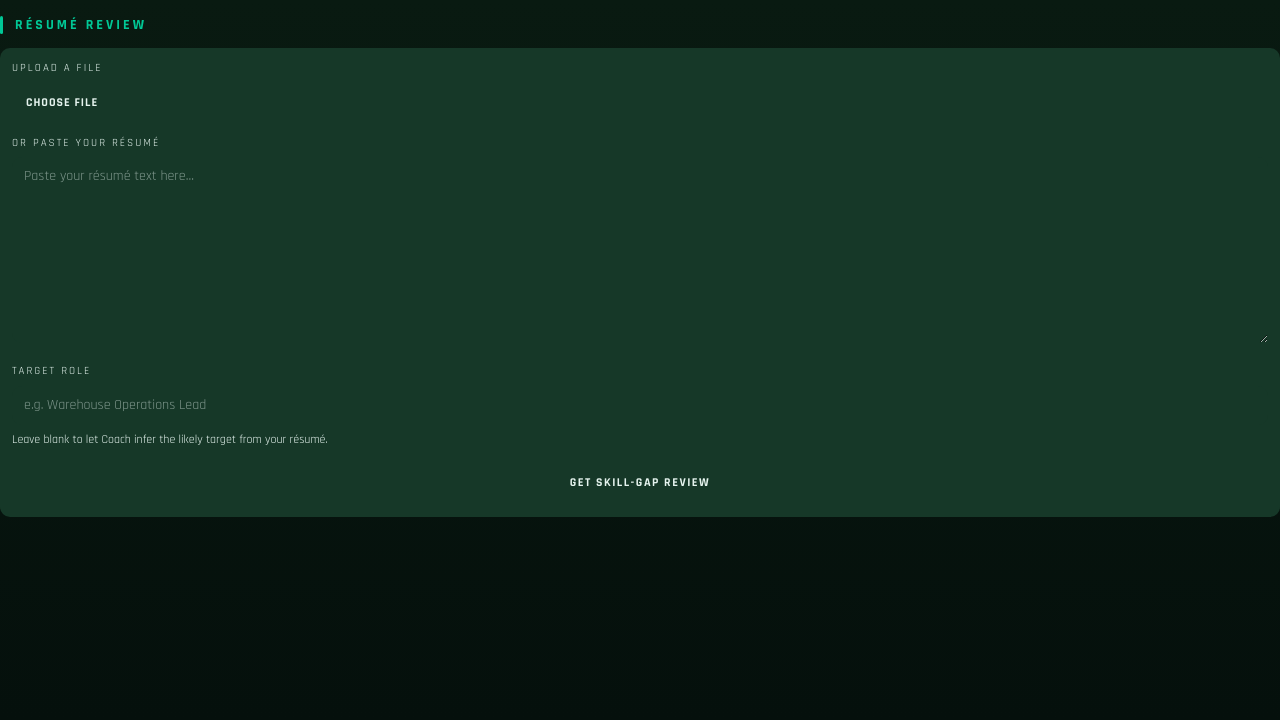
Test: ResumeReviewCard › streams the review, then saves the profile and a coach_chats row
In the text box with placeholder "Paste your résumé text here…": {"x": 640, "y": 250} [12, 157, 1268, 343], type "Warehouse lead, 5 years."
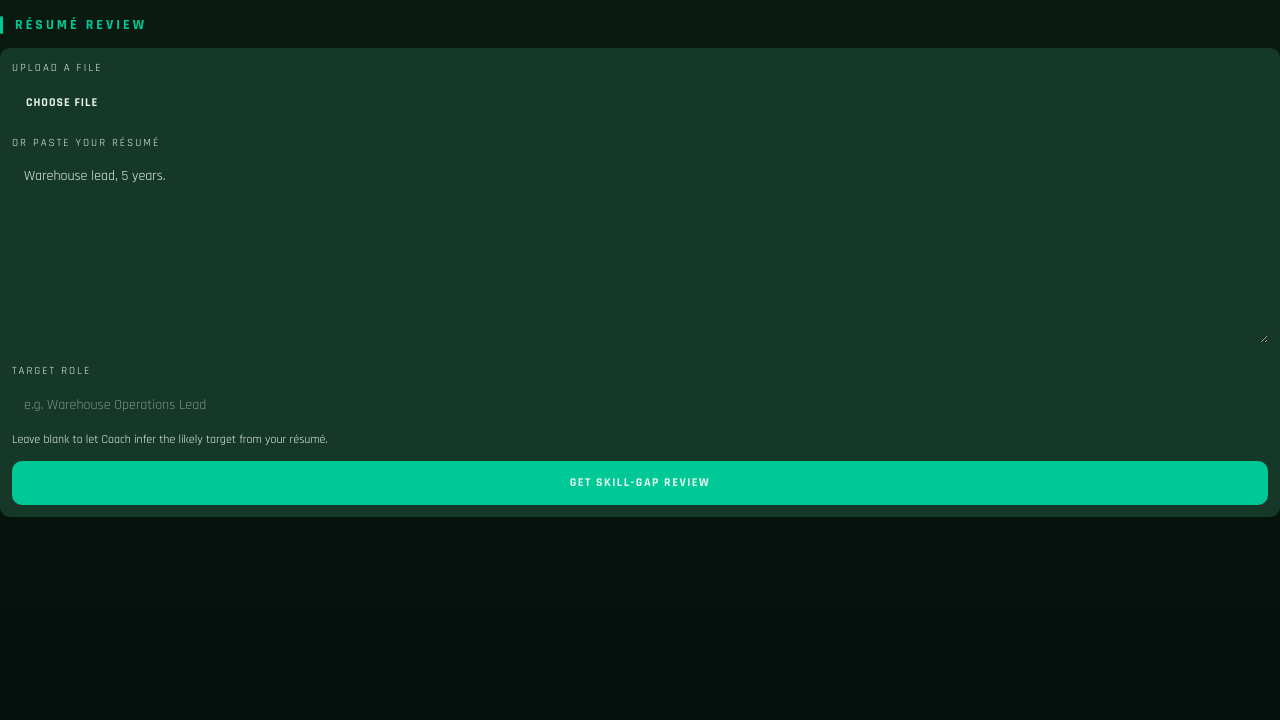
In the field with placeholder "e.g. Warehouse Operations Lead": {"x": 640, "y": 405} [12, 386, 1268, 424], type "Operations Manager"
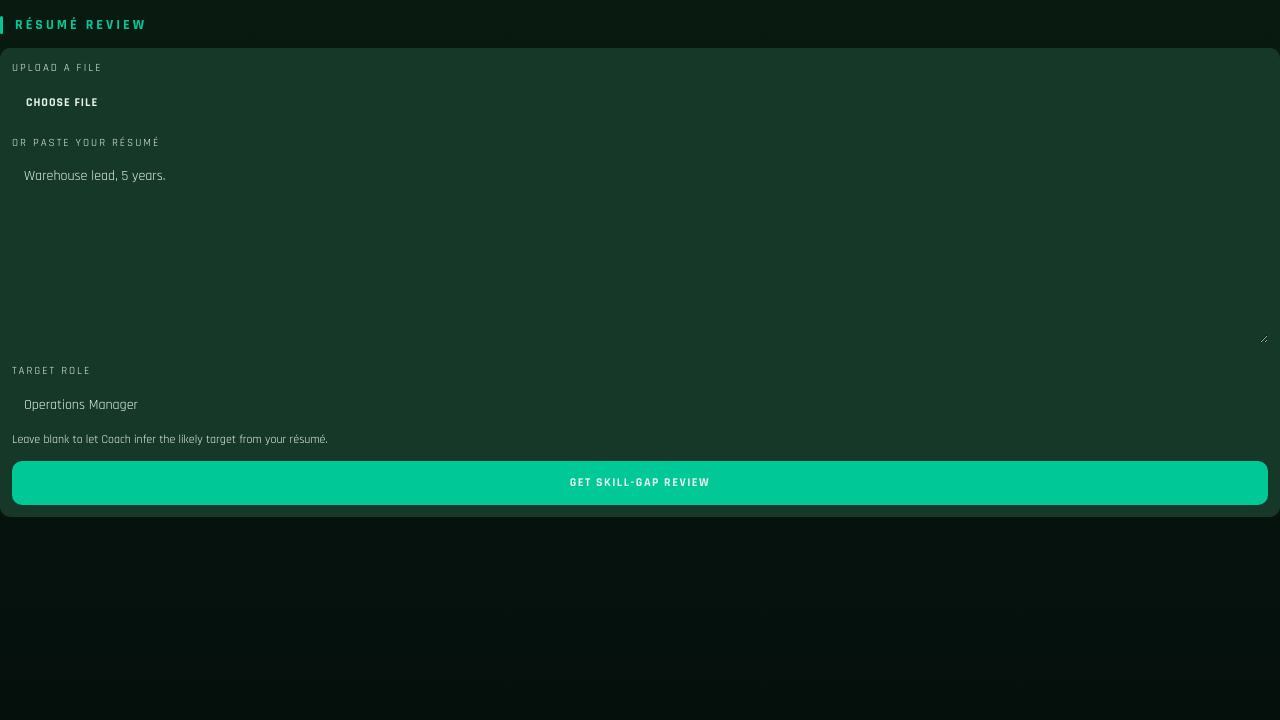
Click the button "Get Skill-Gap Review": {"x": 640, "y": 482} [12, 460, 1268, 504]
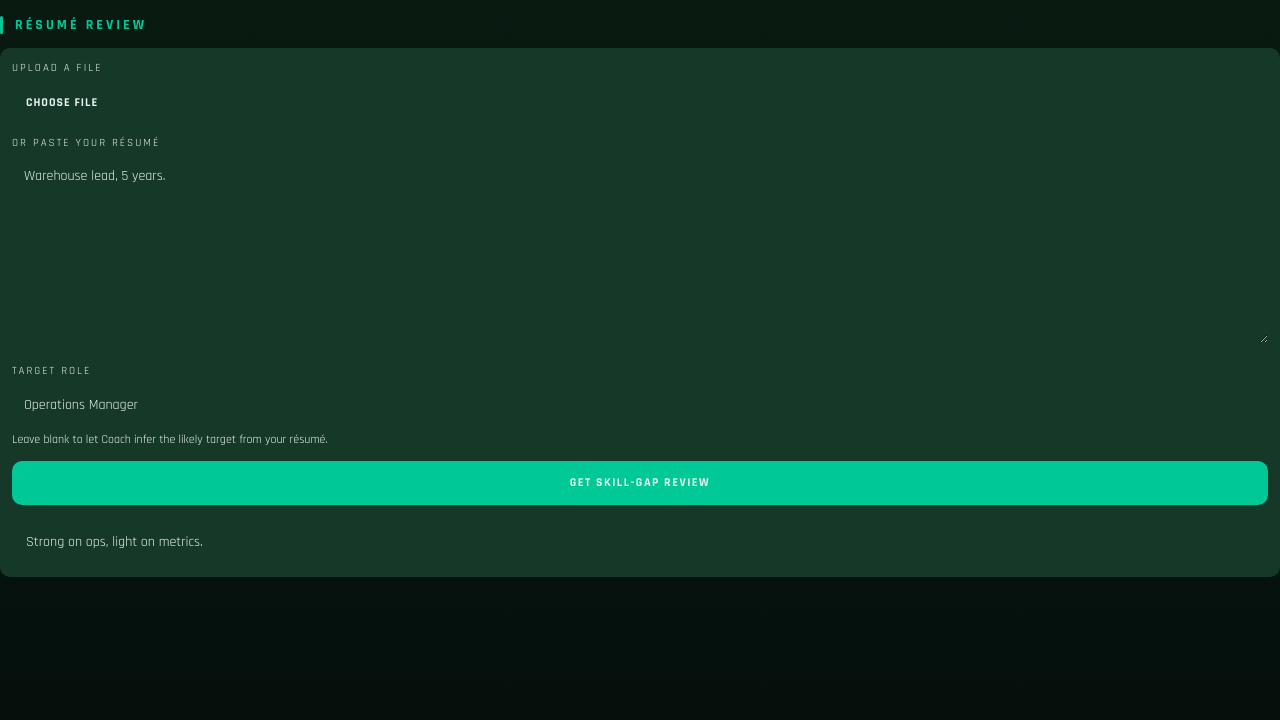
Expected: the text "Strong on ops, light on metrics." is shown, [26, 532, 203, 550]
